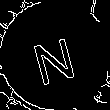N_N: (29, 26, 81, 84)
